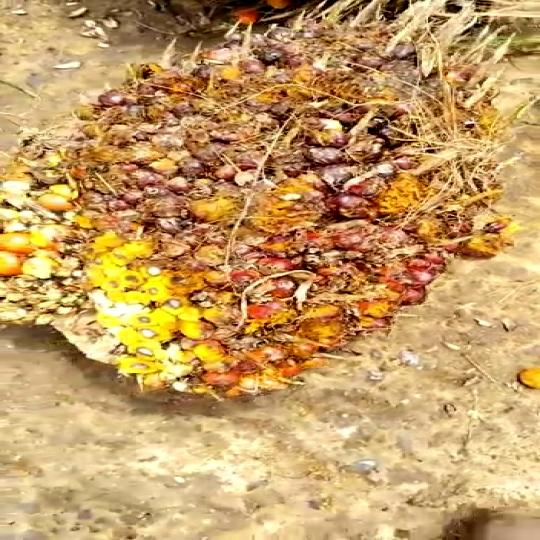masak: (0, 16, 506, 429)
